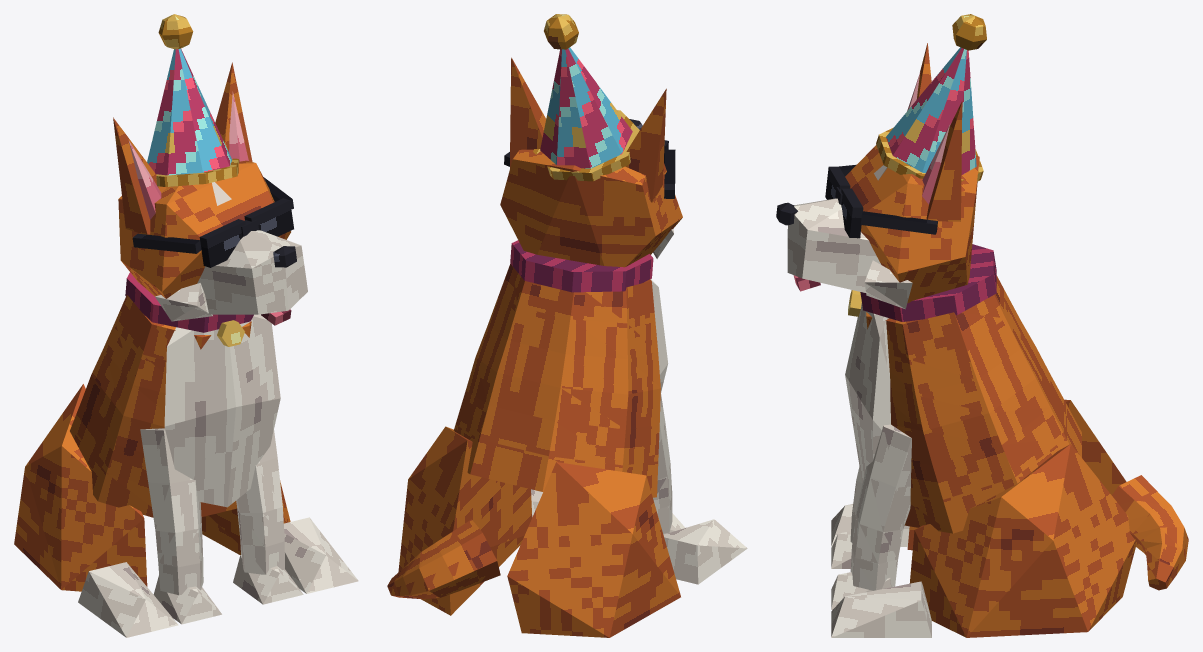
File: party-corgi.glb
3 renders of one model, left to right at view 1: azimuth 30°, elevation 25°; view 2: azimuth 150°, elevation 25°; view 3: azimuth 270°, elevation 25°, orthographic. The views are drawn at different scales.
Visible parts, largest first — view 1: bib, torso, haunch~x, cranium, foreleg~x, muzzle, hat_cone, foreleg, hindfoot~x, hindfoot, ear~x, collar (+13 smaller); view 2: torso, haunch~x, cranium, haunch, hat_cone, tail, collar, hindfoot~x, ear~x, ear, foreleg~x, hat_trim (+3 smaller); view 3: torso, haunch, cranium, foreleg, hat_cone, muzzle, bib, tail, hindfoot, collar, ear, haunch~x (+9 smaller).
Boxes of the visible parts, box(x1,y1,x2,y2) form: bib: box(164, 314, 280, 507); torso: box(70, 295, 251, 517); haunch~x: box(14, 384, 147, 591); cranium: box(118, 160, 290, 298); foreleg~x: box(140, 428, 203, 595); muzzle: box(197, 230, 307, 314); hat_cone: box(147, 48, 231, 175); foreleg: box(236, 430, 284, 574); hindfoot~x: box(78, 562, 178, 637); hindfoot: box(284, 517, 358, 593); ear~x: box(113, 117, 166, 234); collar: box(125, 272, 253, 332); torso: box(453, 264, 660, 497); haunch~x: box(507, 462, 680, 637); cranium: box(500, 149, 682, 267); haunch: box(398, 426, 532, 615); hat_cone: box(540, 47, 632, 168); tail: box(387, 519, 500, 599); collar: box(510, 240, 653, 292); hindfoot~x: box(663, 519, 747, 584); ear~x: box(625, 88, 666, 202); ear: box(510, 57, 546, 168); foreleg~x: box(653, 392, 672, 533); hat_trim: box(533, 110, 639, 181); torso: box(866, 275, 1081, 533); haunch: box(909, 444, 1136, 637); cranium: box(845, 145, 979, 303); foreleg: box(850, 424, 911, 590); hat_cone: box(886, 47, 976, 175); muzzle: box(787, 198, 881, 293); bib: box(845, 303, 890, 483); tail: box(1112, 475, 1188, 590); hindfoot: box(831, 581, 931, 637); collar: box(860, 244, 996, 321); ear: box(926, 101, 962, 221); haunch~x: box(907, 399, 1126, 550).
Bounding box in the file's own units: 0.8 × 1.79 × 1.19.
Materials: 11 (11 with a texture image).
